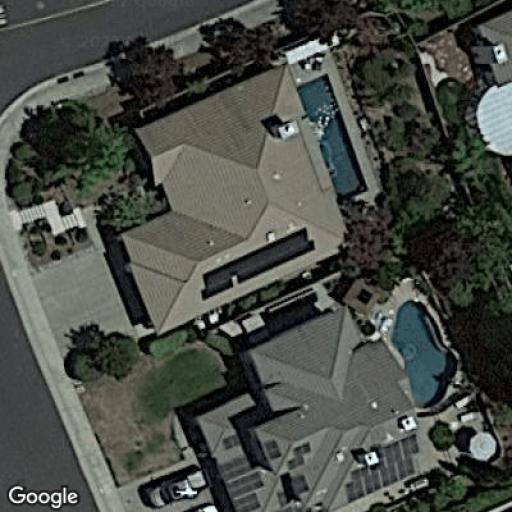solar-panel: (200, 227, 316, 302), (344, 434, 424, 502), (217, 433, 265, 512), (265, 436, 312, 500)
